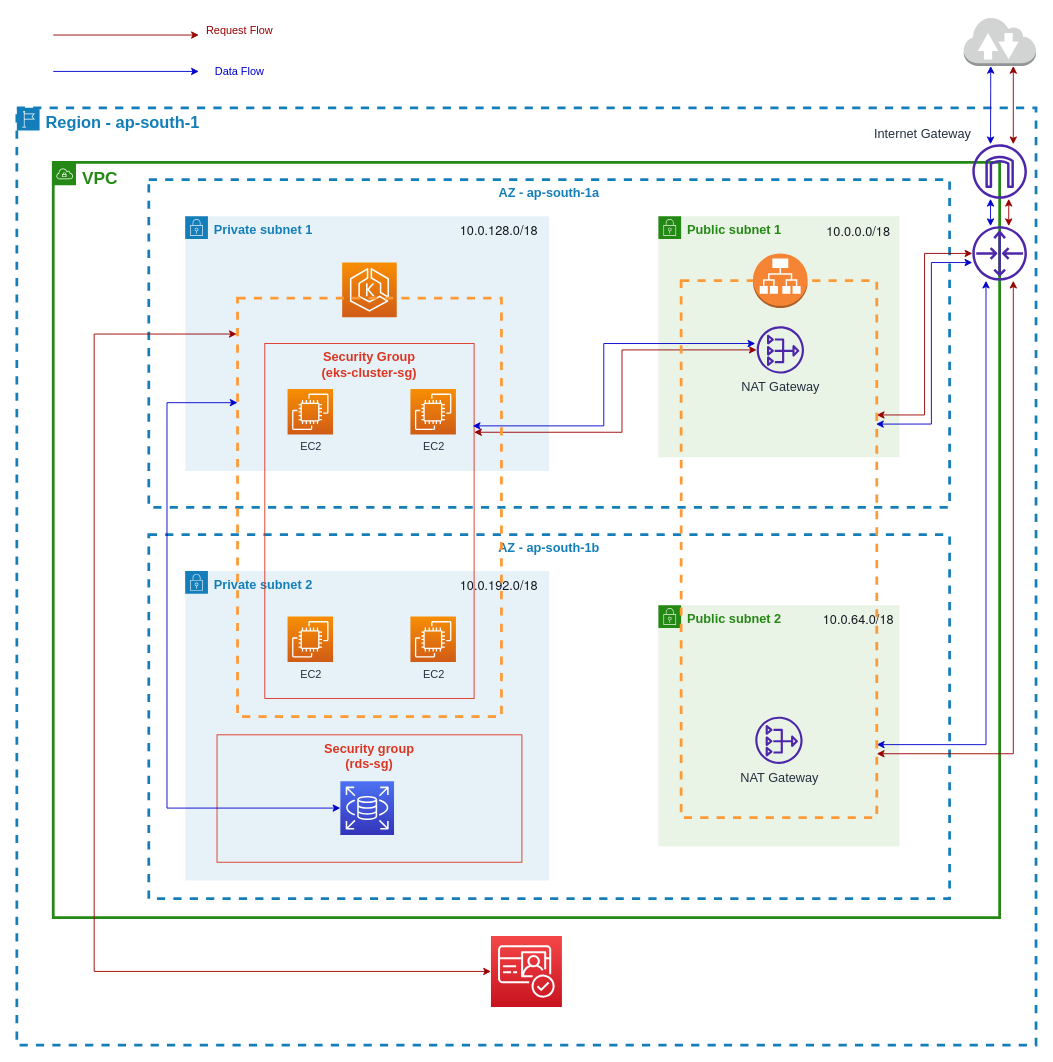
Image size: 1053x1062. Some labels were removed from this diagram. The centre of each missing label's shape, as x and y in pixels:
ALB: (x=780, y=280)
Cognito: (x=526, y=971)
EKS: (x=369, y=289)
Internet: (x=999, y=41)
RDS: (x=366, y=807)
Router: (x=999, y=253)
